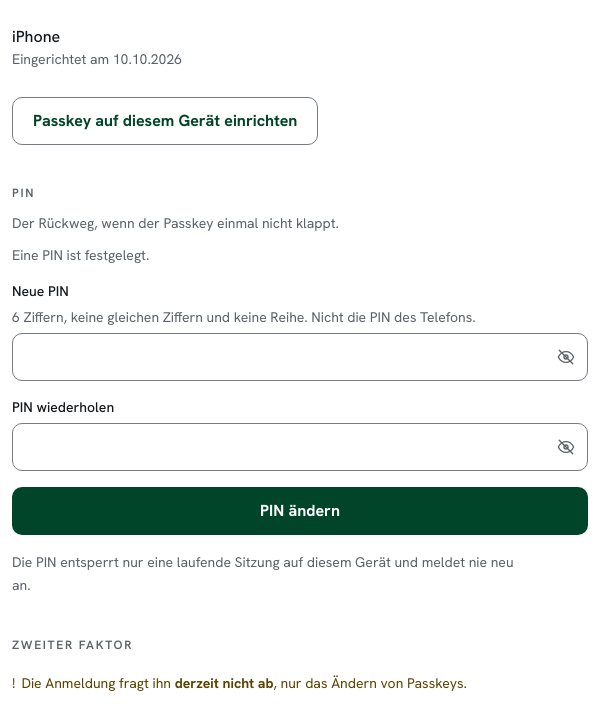
Test: MeinKontoPage › verlangt nach zehn Minuten die Bestätigung mit dem Passkey (ANN-325)
(page scrolled)
Check: the text "Eine PIN ist festgelegt." is shown, box [12,246,149,264]
Type "483920" into the password field labelled "Neue PIN". click: (300, 357)
box: [12,333,588,381]
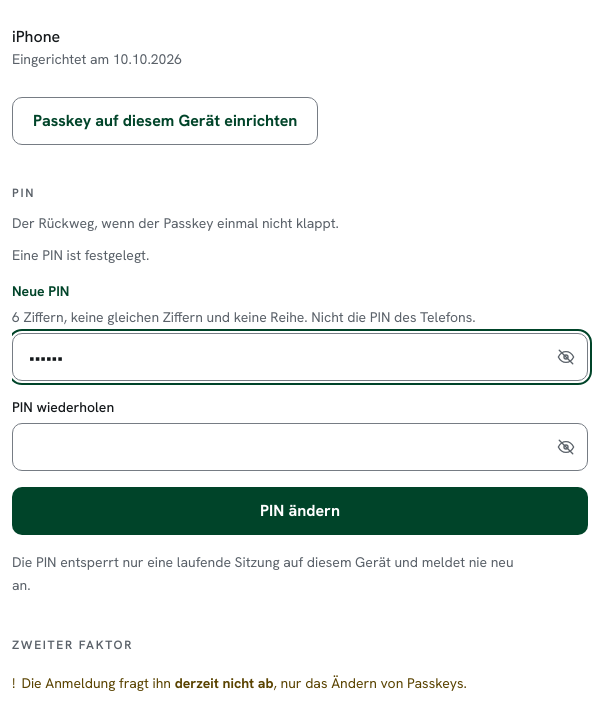
Type "483920" into the password field labelled "PIN wiederholen". click: (300, 447)
box: [12,423,588,471]
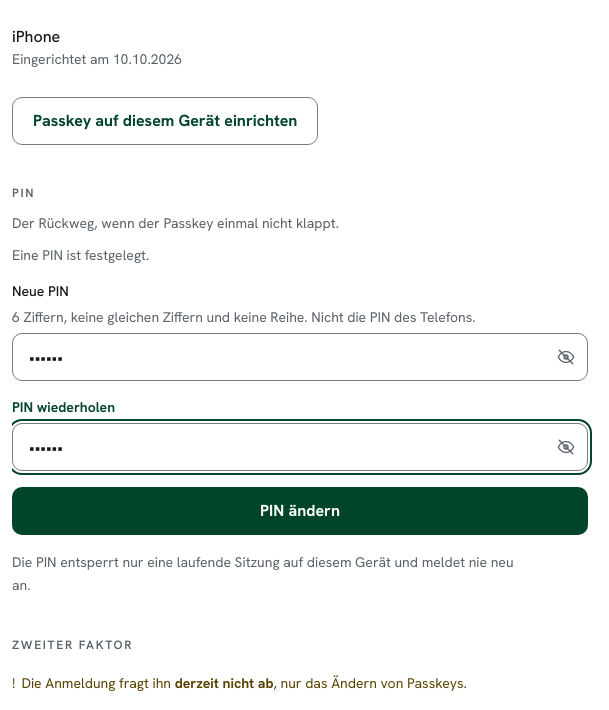
Click the button "PIN ändern". click: (300, 511)
box: [12,487,588,535]
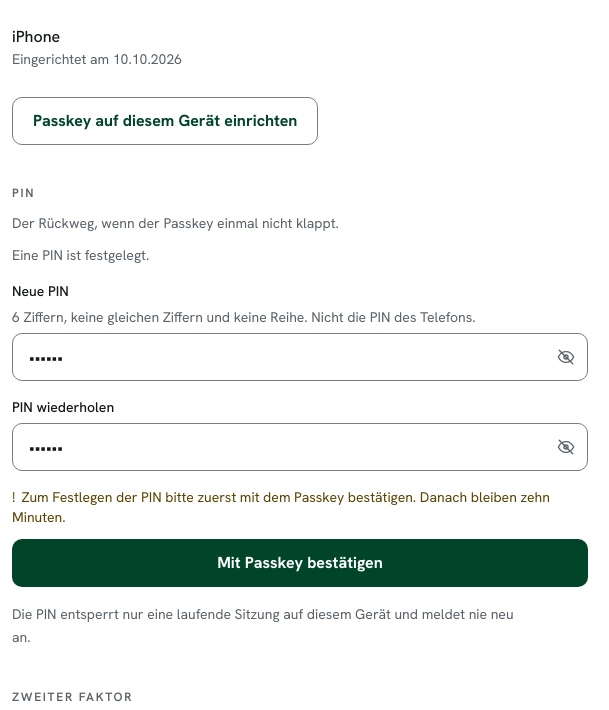
Check: the button "Mit Passkey bestätigen" is shown, box [12,539,588,587]
